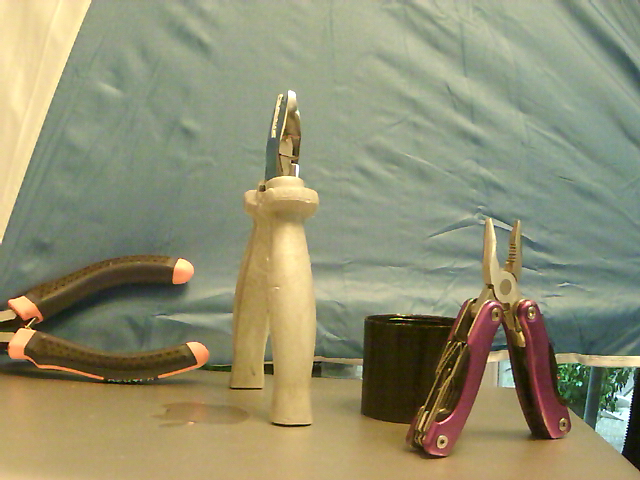pliers: (402, 208, 573, 463), (225, 83, 319, 433)
